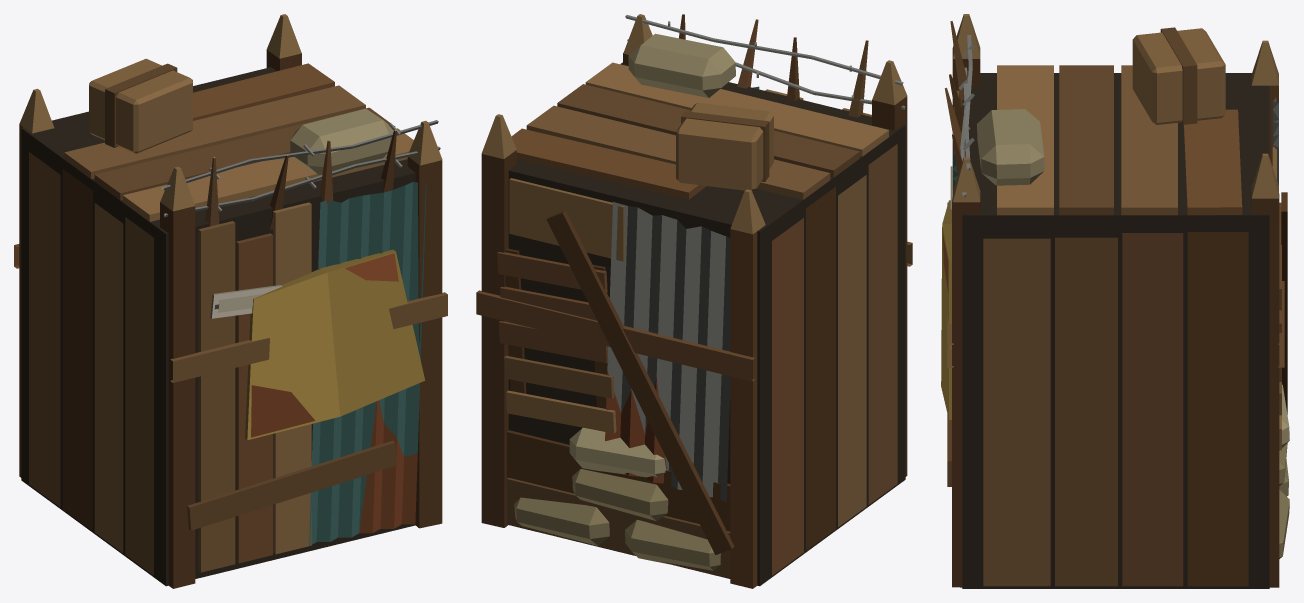
File: muro_3.glb
3 renders of one model, left to right at view 1: azimuth 30°, elevation 25°; view 2: azimuth 150°, elevation 25°; view 3: azimuth 270°, elevation 25°, orthographic. The views are drawn at different scales.
Visible parts, largest first — view 1: muro_3.001; view 2: muro_3.001; view 3: muro_3.001.
Part boxes in pixels (x1,y1,x2,y2): muro_3.001: (14,14,447,588); muro_3.001: (476,14,912,588); muro_3.001: (941,14,1289,588).
Size of the model in its own units: 1.62 by 2.35 by 1.66.
